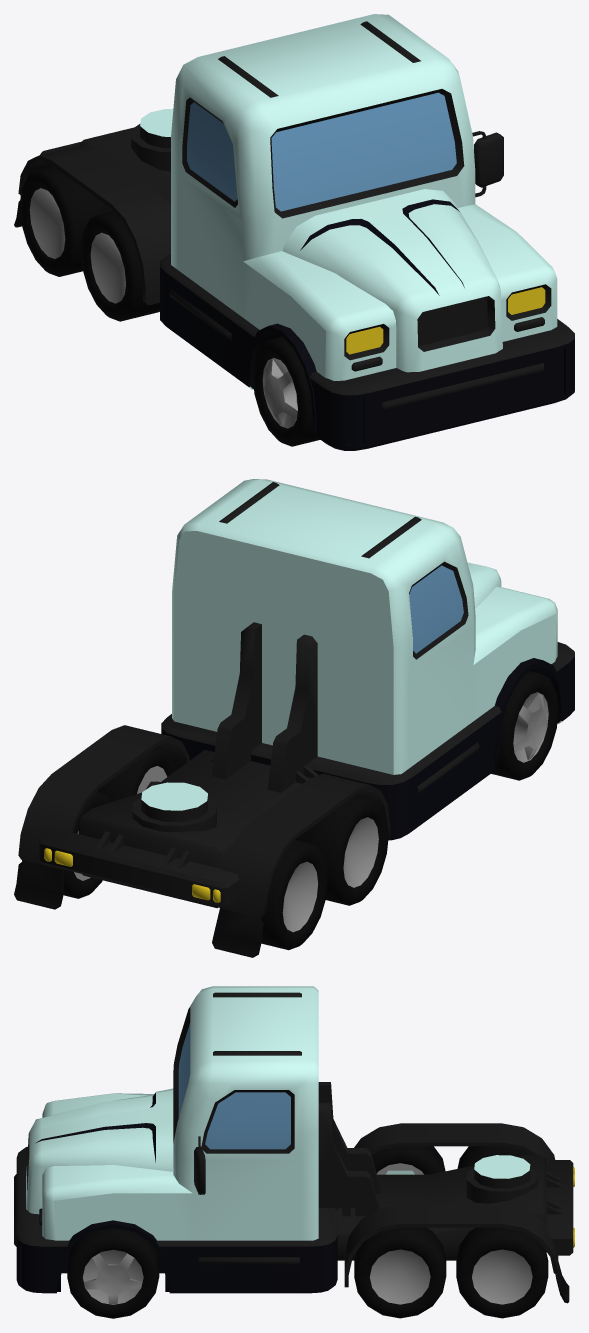
File: Truck_2.fbx
The picture shows the model from 3 angles, top to bottom: view 1: azimuth 30°, elevation 25°; view 2: azimuth 150°, elevation 25°; view 3: azimuth 270°, elevation 25°; orthographic projection. The views are drawn at different scales.
Parts seen in each view (by area): view 1: Car_E, Car_E_Wheel_R_R, Car_E_Wheel_M_R, Car_E_Wheel_F_R; view 2: Car_E, Car_E_Wheel_M_R, Car_E_Wheel_R_R, Car_E_Wheel_F_R, Car_E_Wheel_M_L, Car_E_Wheel_R_L; view 3: Car_E, Car_E_Wheel_R_L, Car_E_Wheel_M_L, Car_E_Wheel_F_L, Car_E_Wheel_M_R, Car_E_Wheel_R_R.
Boxes of the visible parts, x1,y1,x2,y2 form: Car_E: (14,14,574,450); Car_E_Wheel_R_R: (19,166,113,276); Car_E_Wheel_M_R: (80,211,159,321); Car_E_Wheel_F_R: (252,336,320,446); Car_E: (14,479,574,957); Car_E_Wheel_M_R: (295,795,388,905); Car_E_Wheel_R_R: (260,839,328,950); Car_E_Wheel_F_R: (491,671,558,780); Car_E_Wheel_M_L: (97,746,176,801); Car_E_Wheel_R_L: (22,791,110,898); Car_E: (14,986,574,1303); Car_E_Wheel_R_L: (456,1227,548,1318); Car_E_Wheel_M_L: (354,1227,446,1318); Car_E_Wheel_F_L: (67,1228,159,1318); Car_E_Wheel_M_R: (372,1146,445,1174); Car_E_Wheel_R_R: (457,1146,529,1168).
Size of the model in its own units: 59.67 by 59.19 by 123.
